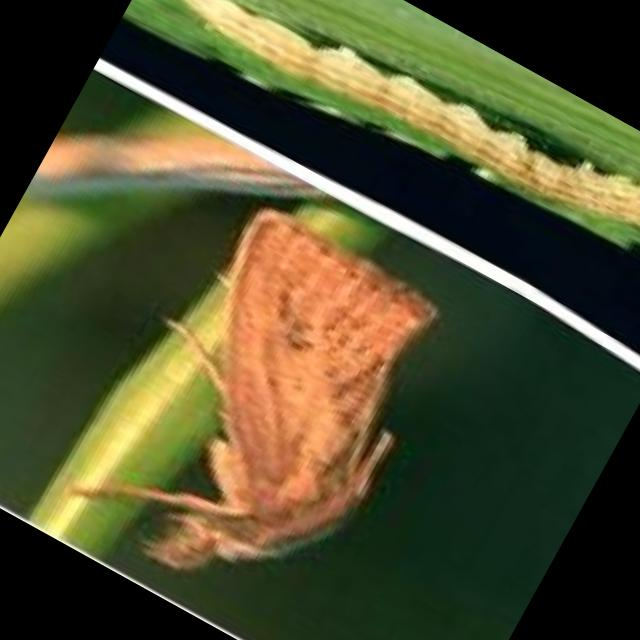stem-borer: (51, 181, 480, 640)
